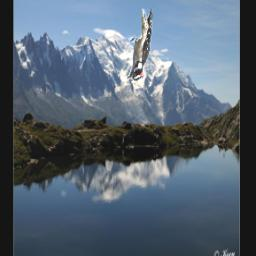Woodpecker: (126, 9, 152, 81)
